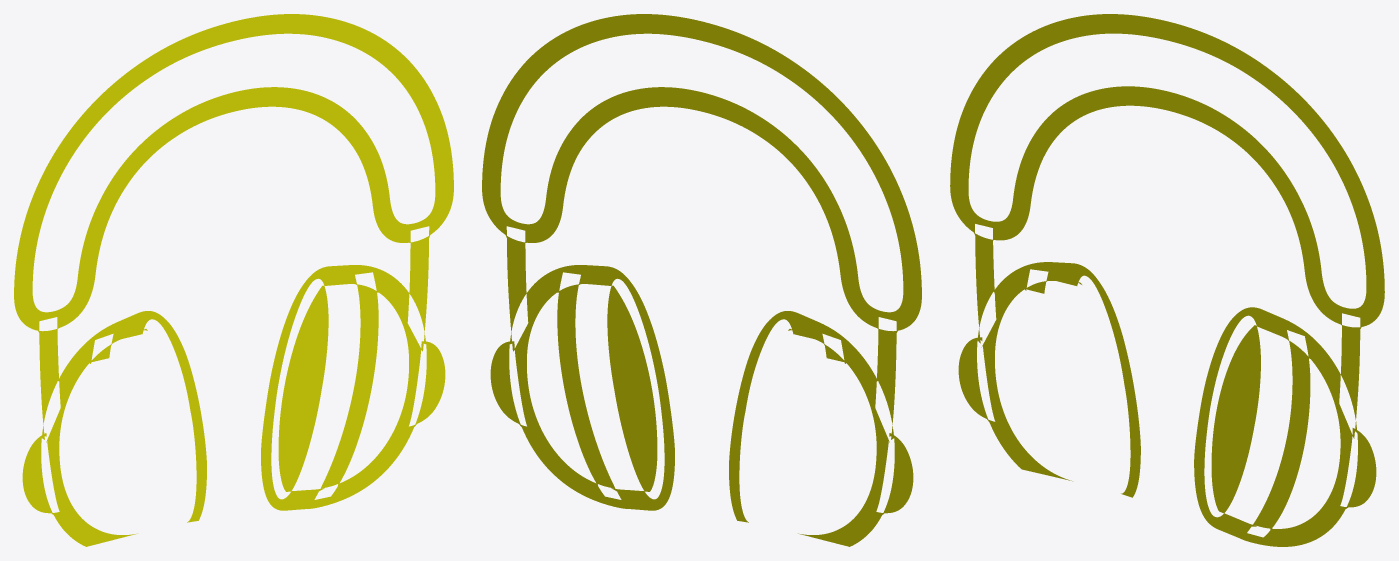
File: wireless_headphones.glb
3 views of the same model, side by side, from view 1: azimuth 30°, elevation 25°; view 2: azimuth 150°, elevation 25°; view 3: azimuth 330°, elevation 25° (orthographic).
Parts seen in each view (by area): view 1: Text.673_673; view 2: Text.673_673; view 3: Text.673_673.
Part boxes in pixels (x1=…): Text.673_673: x1=14, y1=14, x2=453, y2=546; Text.673_673: x1=482, y1=14, x2=921, y2=546; Text.673_673: x1=950, y1=14, x2=1384, y2=546.
Size of the model in its own units: 0.923 by 1.02 by 3.6e-06.
